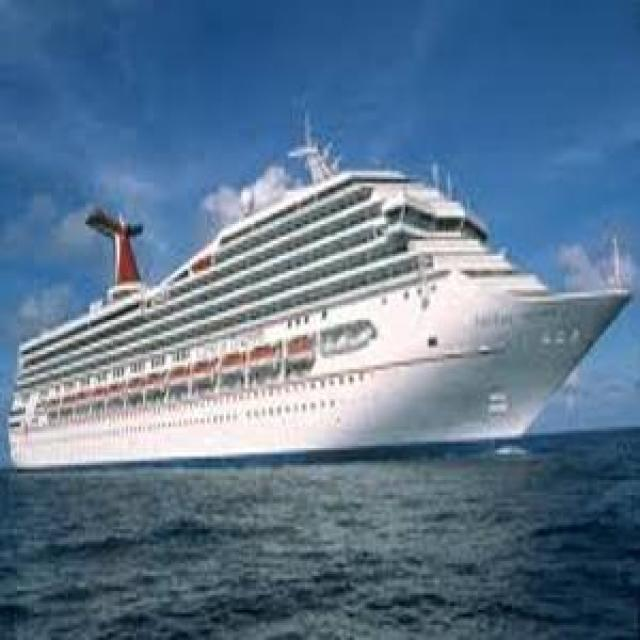passenger ship: (6, 112, 630, 451)
